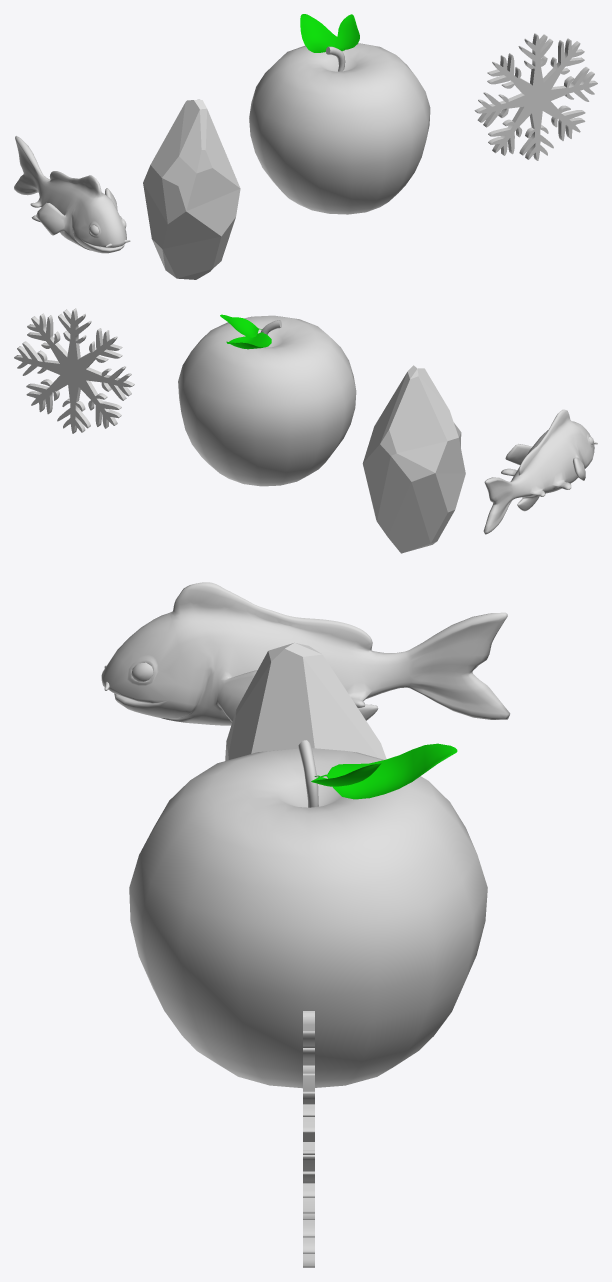
File: Good Item.fbx
3 views of the same model, one above another, from view 1: azimuth 30°, elevation 25°; view 2: azimuth 150°, elevation 25°; view 3: azimuth 270°, elevation 25° (orthographic). The views are drawn at different scales.
Visible parts, largest first — view 1: Golden Apple Item, Ctystal Item, Good Snow Flake Item, Carp Item; view 2: Golden Apple Item, Ctystal Item, Good Snow Flake Item, Carp Item; view 3: Golden Apple Item, Carp Item, Ctystal Item, Good Snow Flake Item.
Part boxes in pixels (left/top/right/bottom): Golden Apple Item: left=249, top=14, right=430, bottom=214; Ctystal Item: left=143, top=99, right=240, bottom=279; Good Snow Flake Item: left=474, top=33, right=597, bottom=160; Carp Item: left=14, top=136, right=130, bottom=253; Golden Apple Item: left=178, top=314, right=356, bottom=486; Ctystal Item: left=362, top=365, right=465, bottom=553; Good Snow Flake Item: left=14, top=308, right=134, bottom=433; Carp Item: left=483, top=409, right=597, bottom=534; Golden Apple Item: left=129, top=740, right=487, bottom=1088; Carp Item: left=101, top=582, right=510, bottom=725; Ctystal Item: left=225, top=642, right=386, bottom=760; Good Snow Flake Item: left=303, top=1011, right=314, bottom=1267.
Size of the model in its own units: 5.47 by 1.88 by 1.74.
